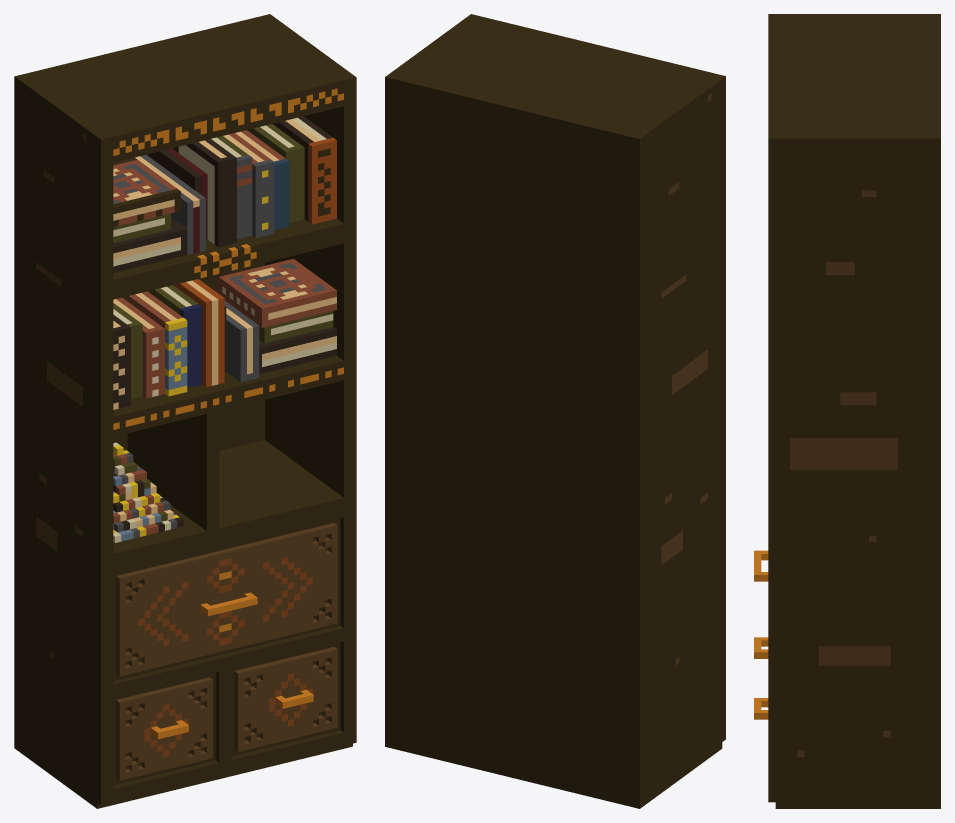
The model's file is Nha-9.obj.
The picture shows the model from 3 angles, left to right: view 1: azimuth 30°, elevation 25°; view 2: azimuth 150°, elevation 25°; view 3: azimuth 270°, elevation 25°; orthographic projection.
Bounding box in the file's own units: 4.1 × 10.3 × 2.6.
Materials: 1 (1 with a texture image).
